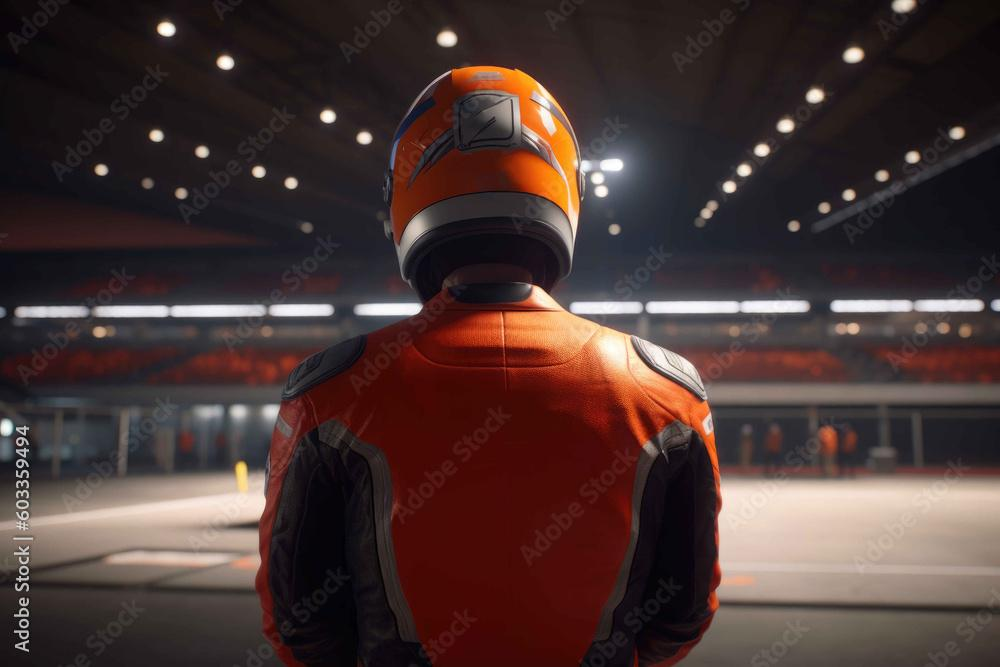helmet: (381, 64, 587, 309)
